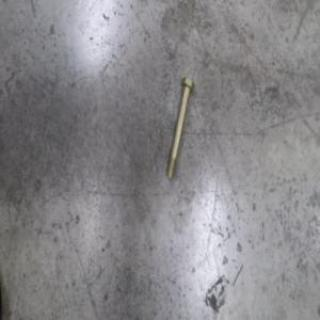Bolttrack_idkeyframe: (164, 75, 194, 181)
